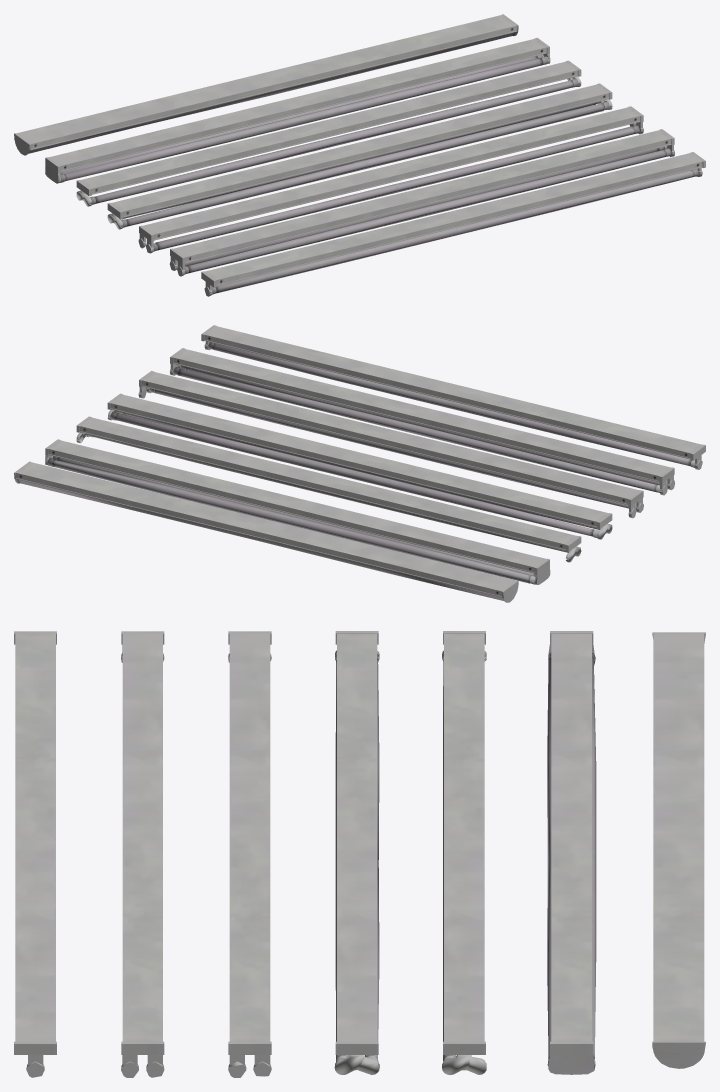
File: mounted_fluorescent_lights.glb
3 views of the same model, one above another, from view 1: azimuth 30°, elevation 25°; view 2: azimuth 150°, elevation 25°; view 3: azimuth 270°, elevation 25° (orthographic). The views are drawn at different scales.
Parts seen in each view (by area): view 1: mounted_fluorescent_lights_b, mounted_fluorescent_lights_f, mounted_fluorescent_lights_d, mounted_fluorescent_lights_c, mounted_fluorescent_lights_e, mounted_fluorescent_lights_a, mounted_fluorescent_lights_g; view 2: mounted_fluorescent_lights_f, mounted_fluorescent_lights_b, mounted_fluorescent_lights_d, mounted_fluorescent_lights_a, mounted_fluorescent_lights_g, mounted_fluorescent_lights_c, mounted_fluorescent_lights_e; view 3: mounted_fluorescent_lights_g, mounted_fluorescent_lights_f, mounted_fluorescent_lights_d, mounted_fluorescent_lights_e, mounted_fluorescent_lights_c, mounted_fluorescent_lights_b, mounted_fluorescent_lights_a.
Boxes of the visible parts, x1,y1,x2,y2 form: mounted_fluorescent_lights_b: (169,129,674,276); mounted_fluorescent_lights_f: (45,37,550,183); mounted_fluorescent_lights_d: (107,83,612,229); mounted_fluorescent_lights_c: (138,106,643,253); mounted_fluorescent_lights_e: (76,60,581,206); mounted_fluorescent_lights_a: (201,152,705,296); mounted_fluorescent_lights_g: (14,14,518,155); mounted_fluorescent_lights_f: (45,439,550,584); mounted_fluorescent_lights_b: (170,348,674,495); mounted_fluorescent_lights_d: (107,393,612,539); mounted_fluorescent_lights_a: (201,325,705,469); mounted_fluorescent_lights_g: (14,461,518,602); mounted_fluorescent_lights_c: (138,371,643,518); mounted_fluorescent_lights_e: (76,416,581,562); mounted_fluorescent_lights_g: (652,632,705,1068); mounted_fluorescent_lights_f: (547,631,596,1074); mounted_fluorescent_lights_d: (334,631,379,1074); mounted_fluorescent_lights_e: (442,631,486,1074); mounted_fluorescent_lights_c: (228,631,271,1077); mounted_fluorescent_lights_b: (121,631,164,1077); mounted_fluorescent_lights_a: (14,631,56,1077).
Bounding box in the file's own units: 0.9122 × 0.0351 × 0.6454.
2 materials, 2 textured.
